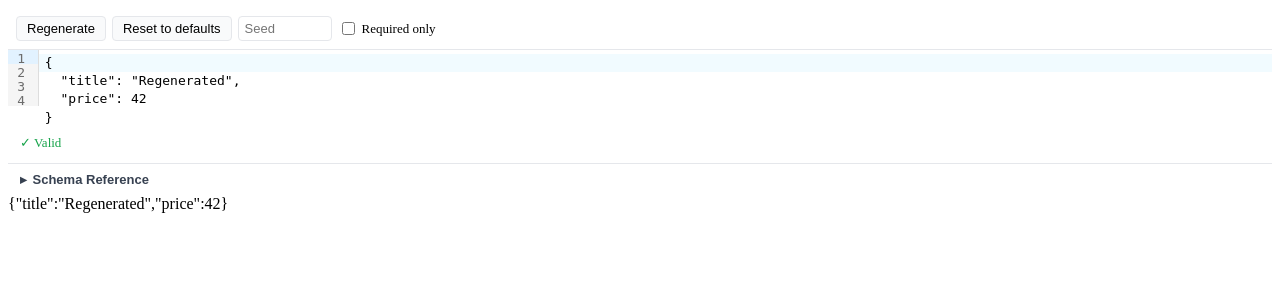
ContextPane › optional fields show optional label
The image size is (1280, 291).
Click the button "▸ Schema Reference": click(91, 179) [8,164,1272,195]
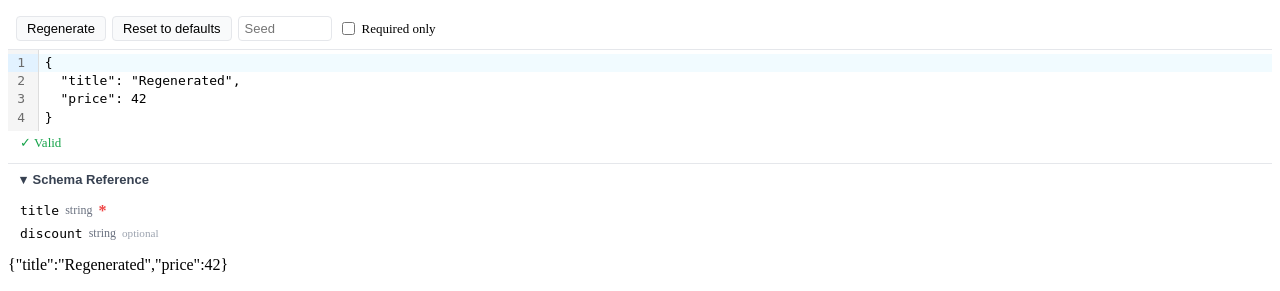
Now the text "optional" is shown, box [122,227,159,239]
